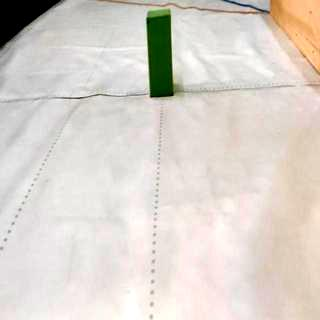greenbox: (148, 10, 174, 99)
